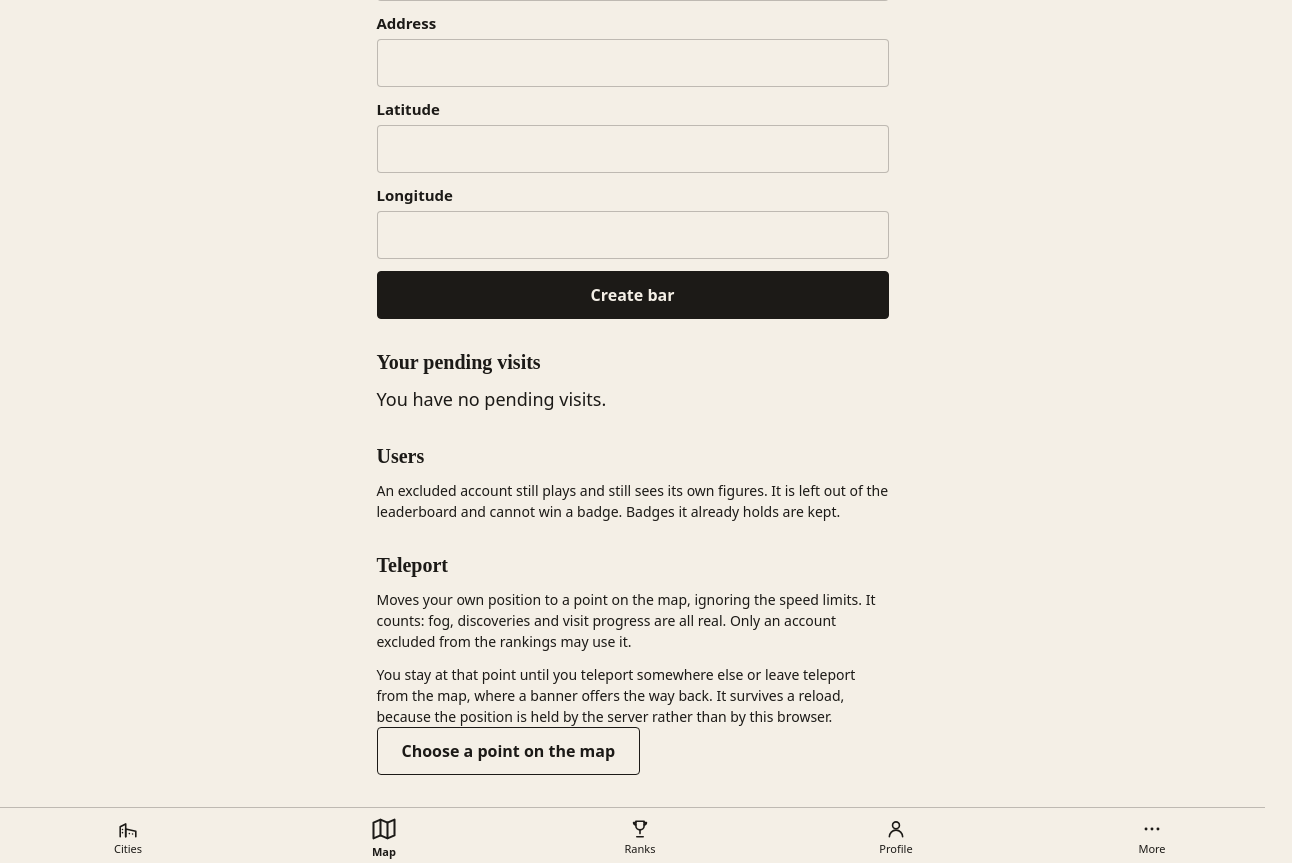
Test case: admin teleport › mounts no map picker until the admin asks for one
The width and height of the screenshot is (1292, 863).
(page scrolled)
Step 1. Click the button "Choose a point on the map" → point(508, 751), box [376, 727, 640, 775]
(page scrolled)
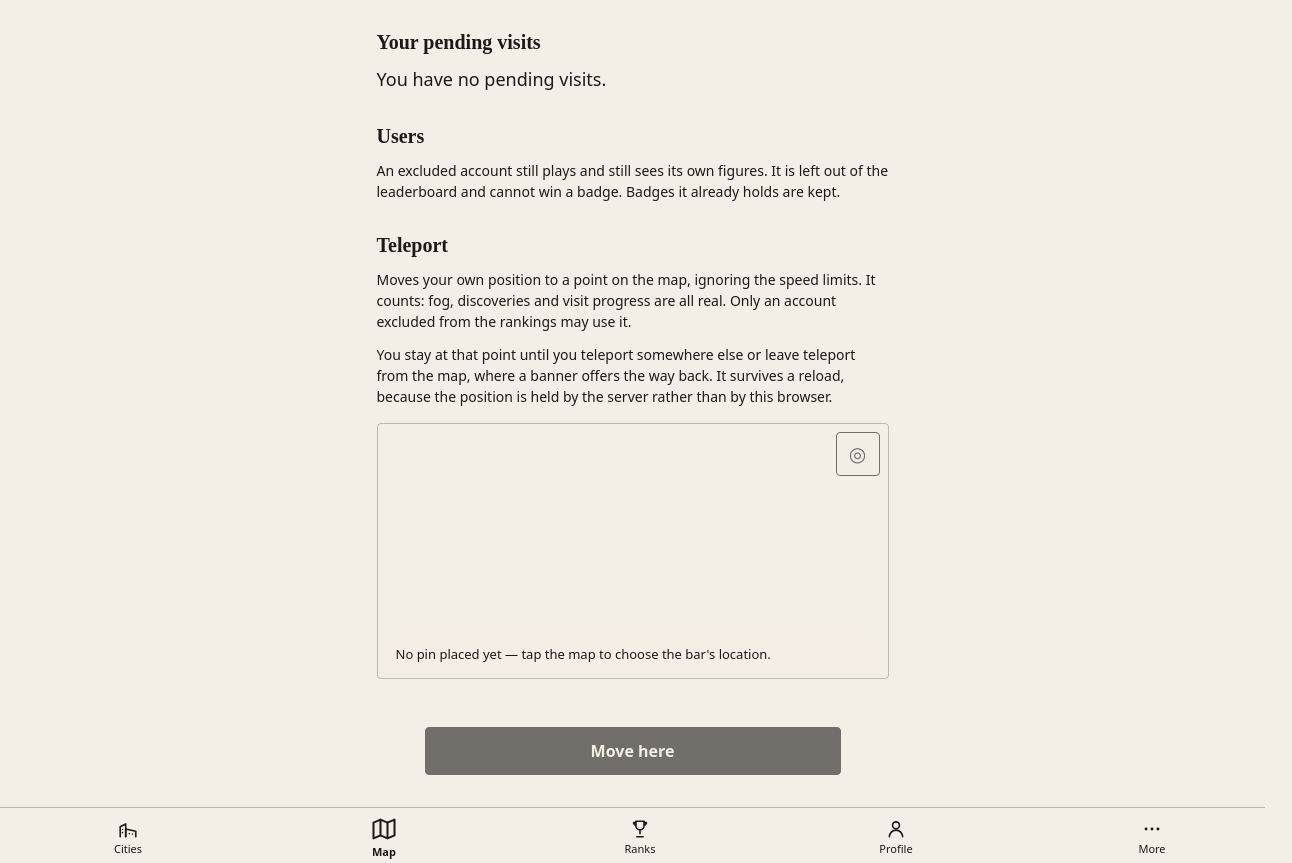
Expected: the element with class "map-picker" is shown, [376, 423, 888, 679]
